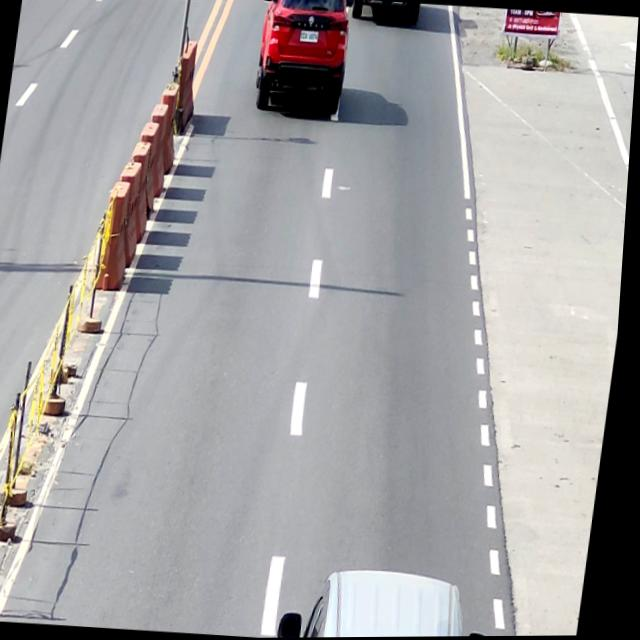Car: (285, 560, 507, 638), (249, 0, 355, 116)
License-Plate: (299, 29, 319, 43)
